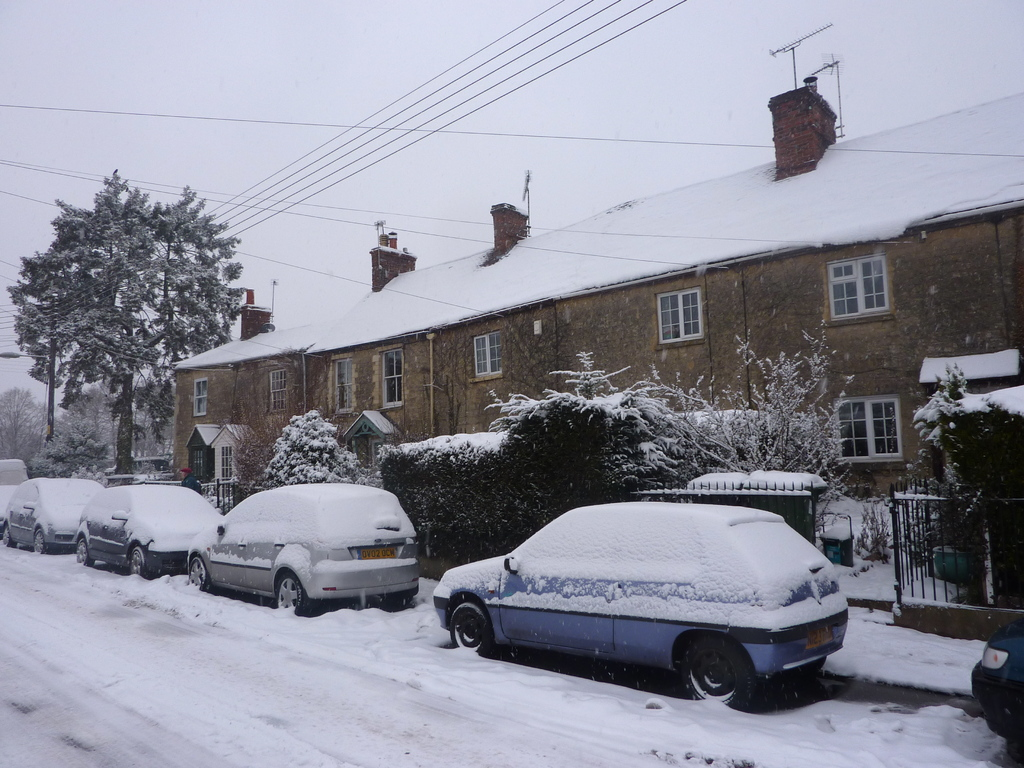Car: (433, 499, 855, 710), (0, 455, 421, 622), (967, 613, 1023, 758)
